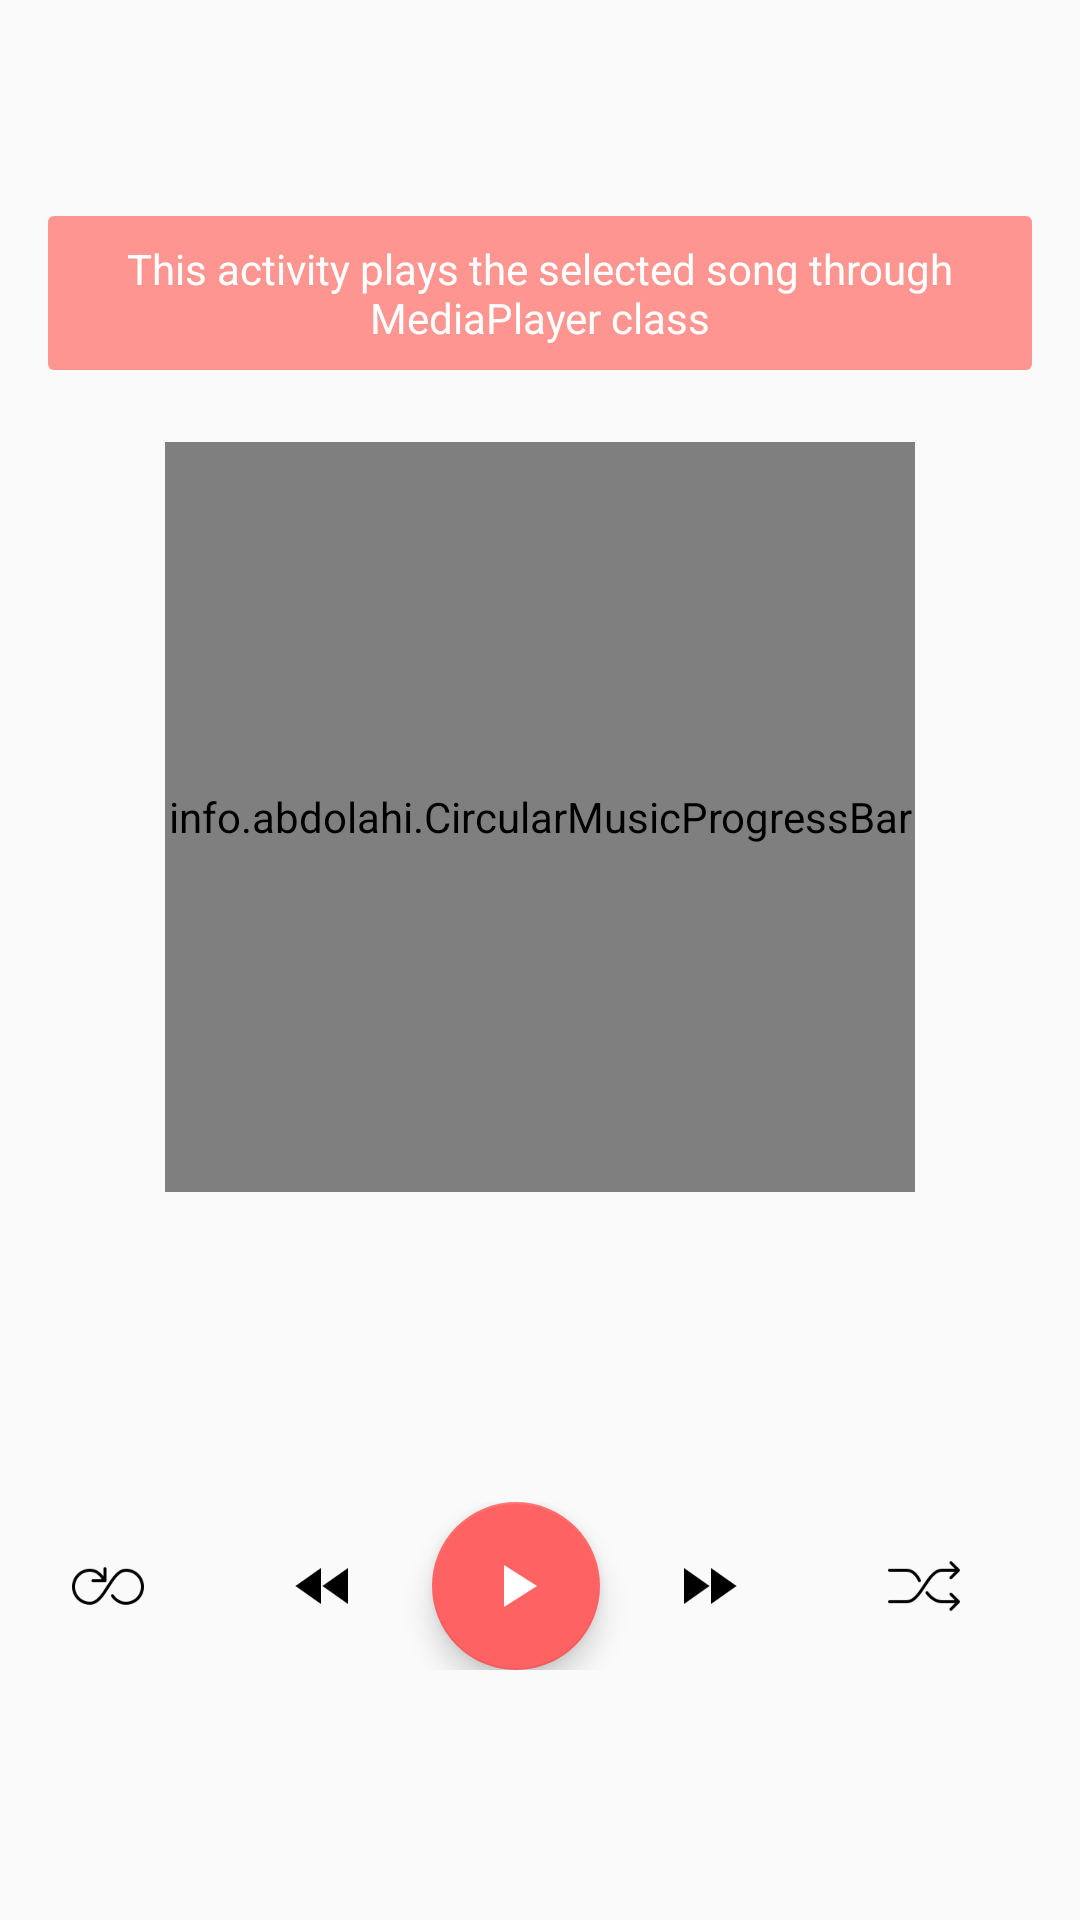

Icon click points for this 1080px x 1920px phone screenshot, format (x,y):
Next Song: (710,1586)
play arrow: (516,1586)
Previous Song: (321,1586)
Repeat: (108,1586)
Shuffle: (924,1586)
